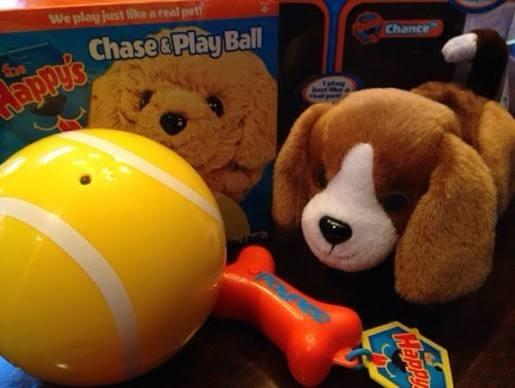non-dog: (267, 32, 515, 357)
